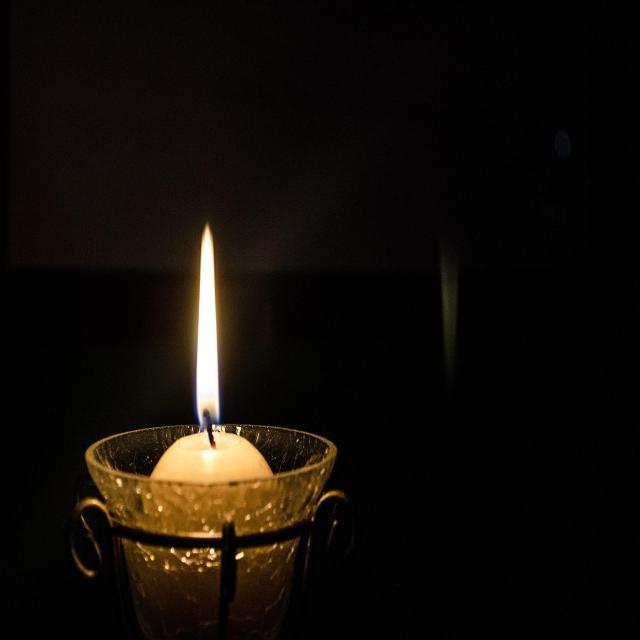Fire_Save: (70, 220, 350, 638)
